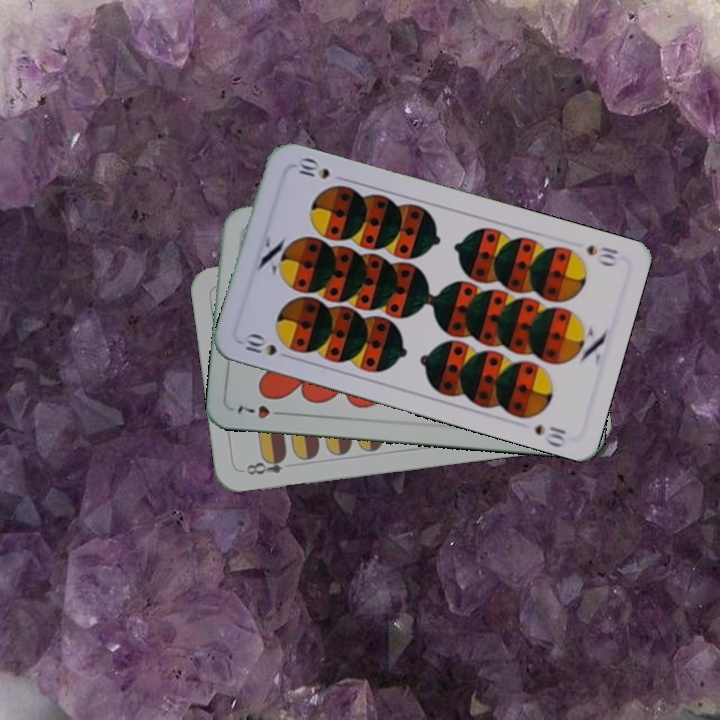E8: (239, 451, 289, 477)
H7: (233, 399, 289, 421)
S10: (241, 330, 295, 362), (582, 241, 621, 269)
